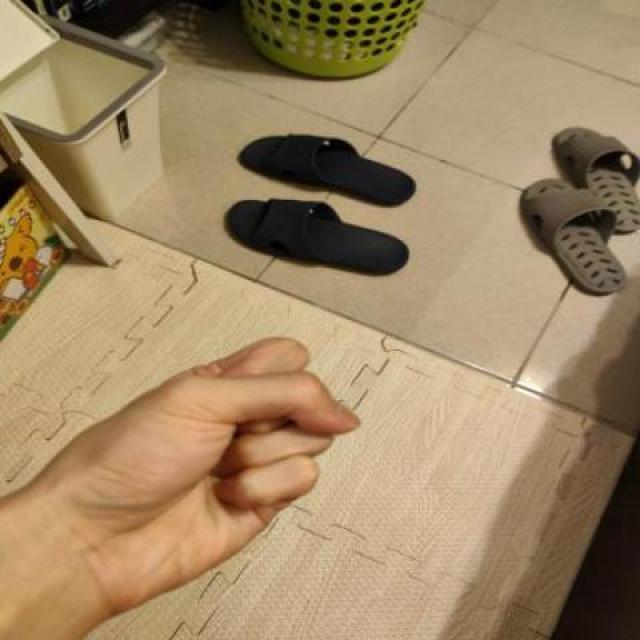Closed Hand: (0, 301, 363, 640)
